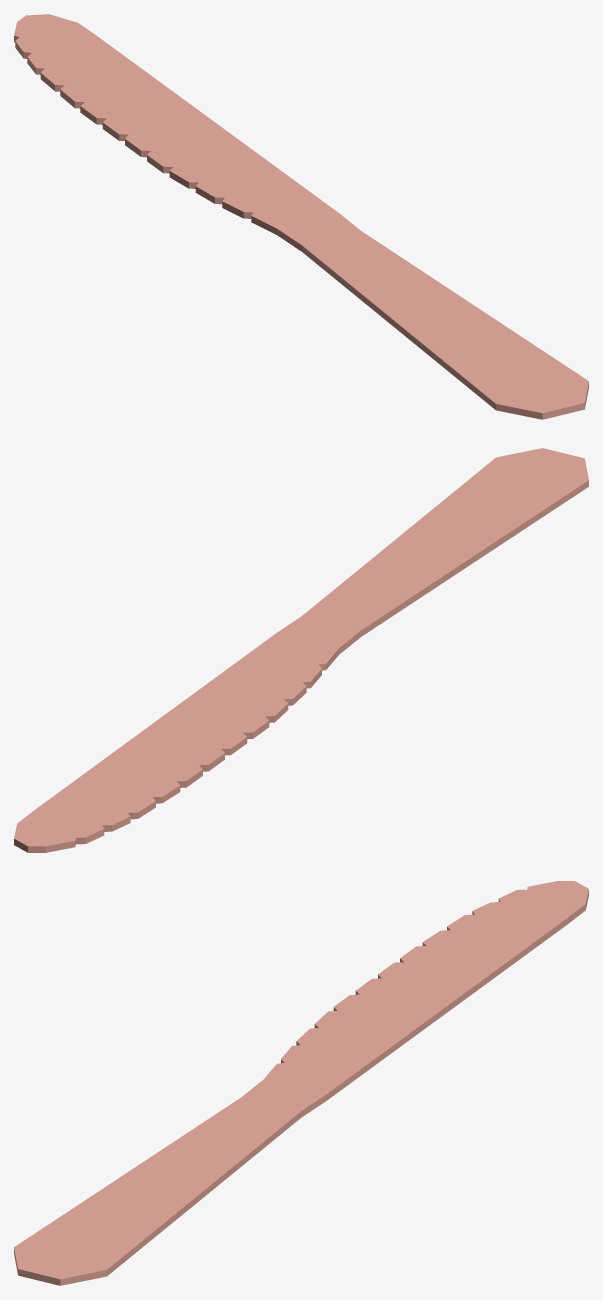
The model's file is Knife.fbx.
The picture shows the model from 3 angles, top to bottom: view 1: azimuth 30°, elevation 25°; view 2: azimuth 150°, elevation 25°; view 3: azimuth 330°, elevation 25°; orthographic projection.
Parts seen in each view (by area): view 1: Knife; view 2: Knife; view 3: Knife.
Boxes of the visible parts, x1,y1,x2,y2 form: Knife: (14,14,588,419); Knife: (14,448,588,852); Knife: (14,881,588,1285).
Size of the model in its own units: 7.93 by 0.5 by 74.07.
